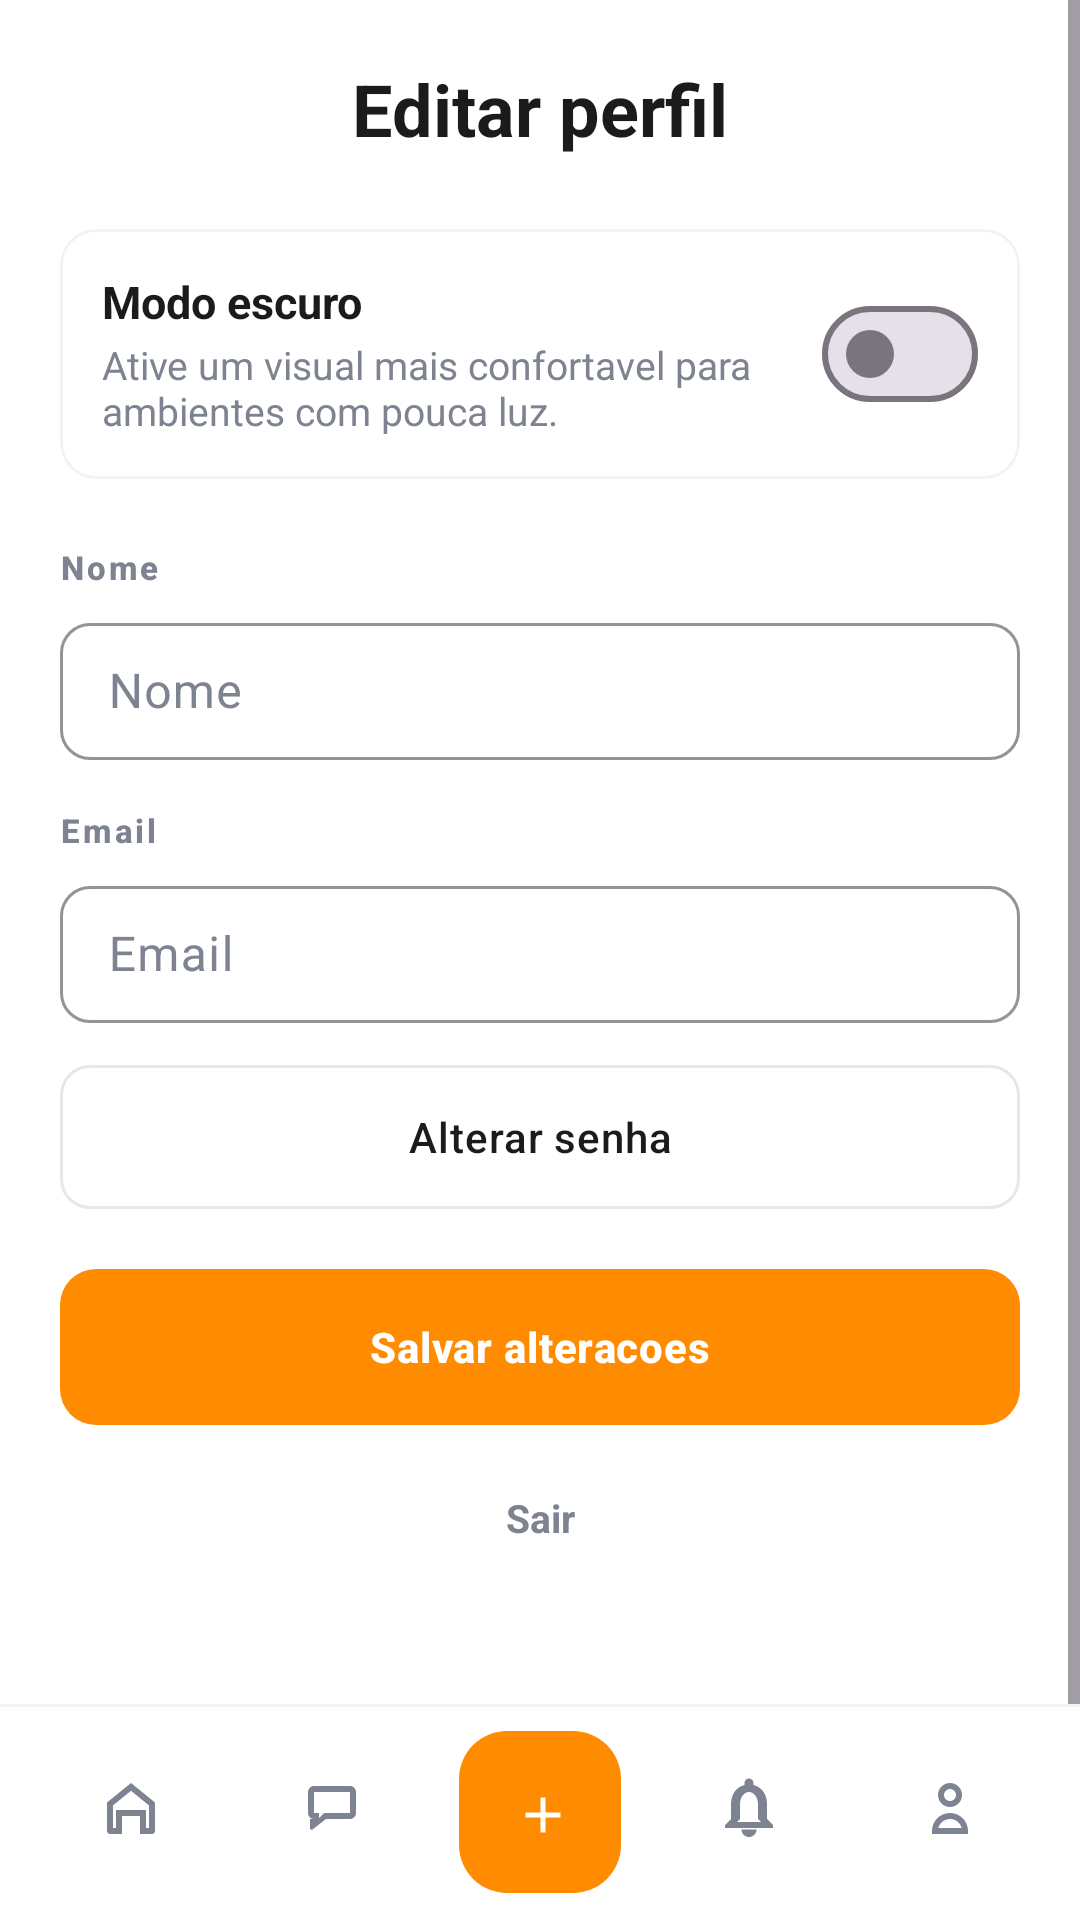

Icon click points for this 1080×1920 phone screenshot, format point (x, y):
Abrir conversas: point (332, 1808)
Abrir feed: point (131, 1808)
Abrir notificacoes: point (749, 1807)
Abrir perfil: point (950, 1808)
Criar Post: point (540, 1812)
